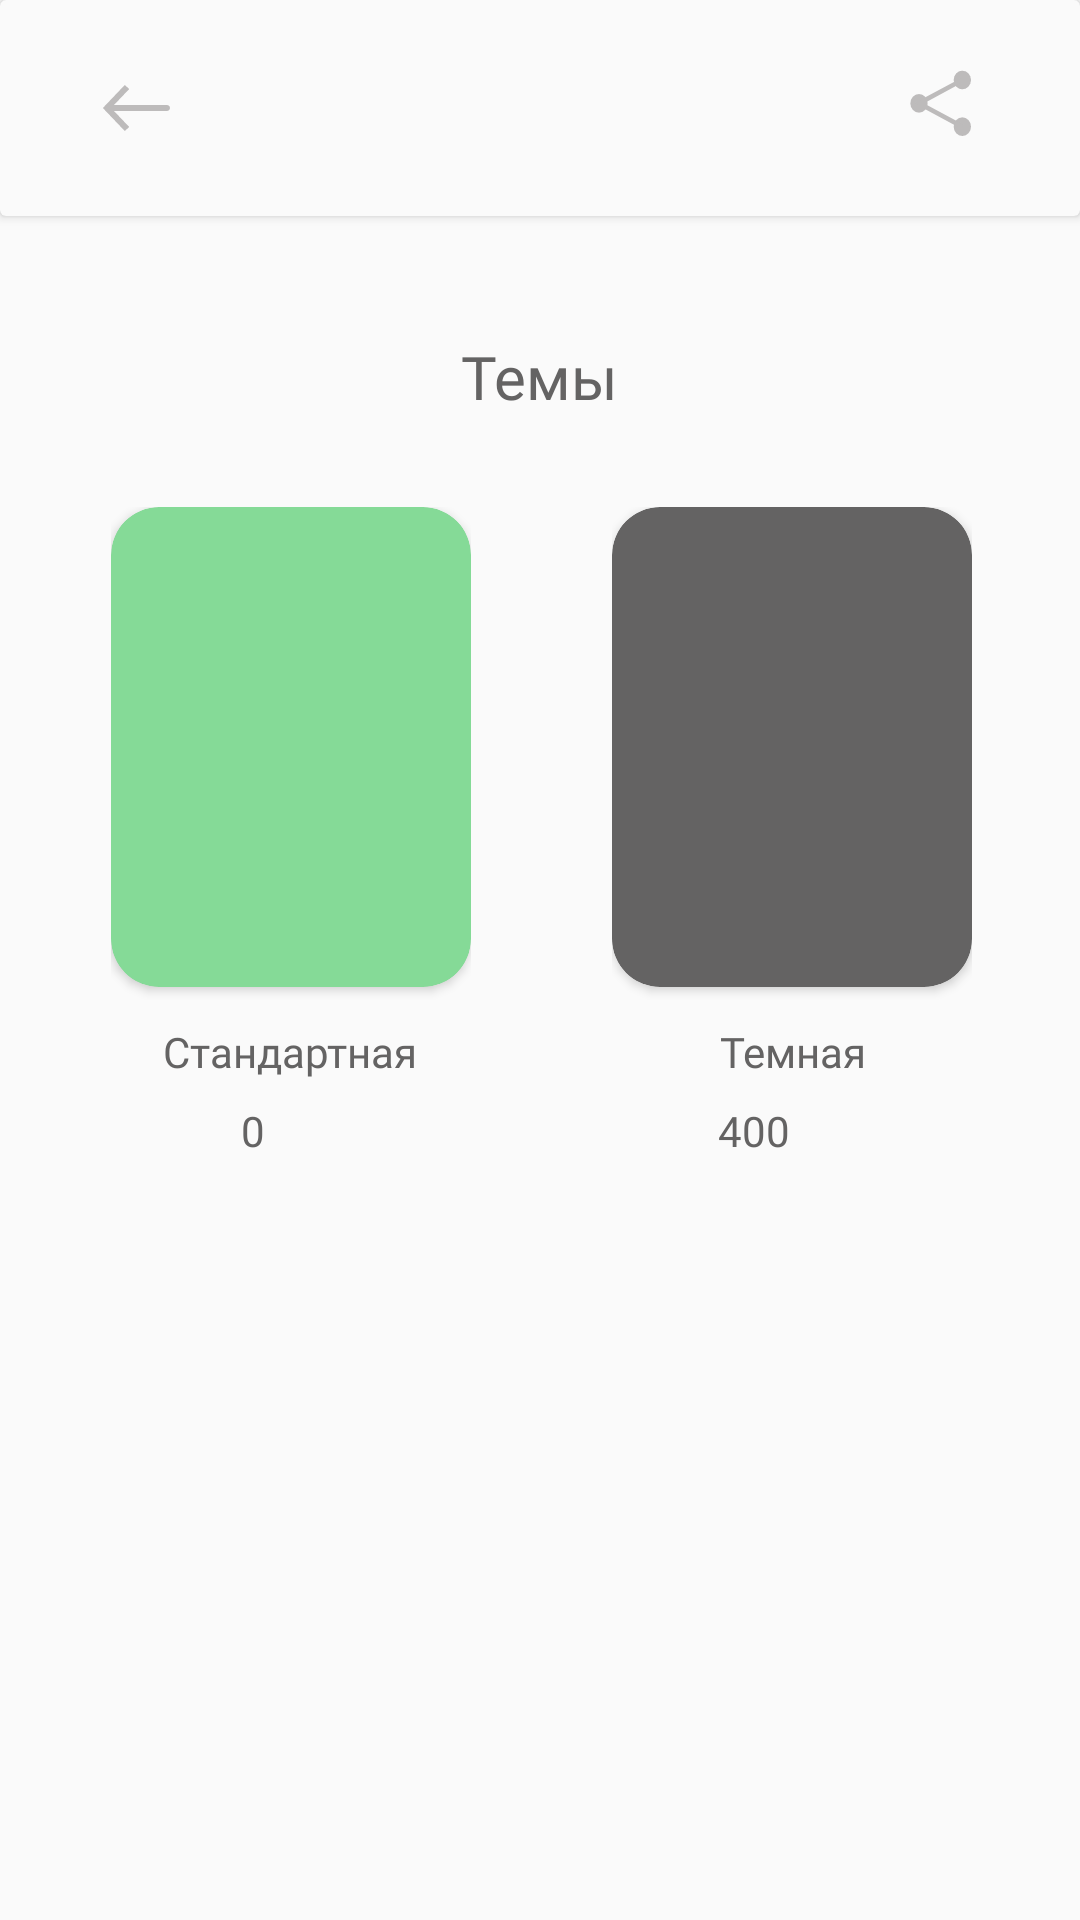

Point at icon controls on the screen. Image size 1080 x 1920, points as (x,y).
arrow: (136,108)
share: (940,103)
